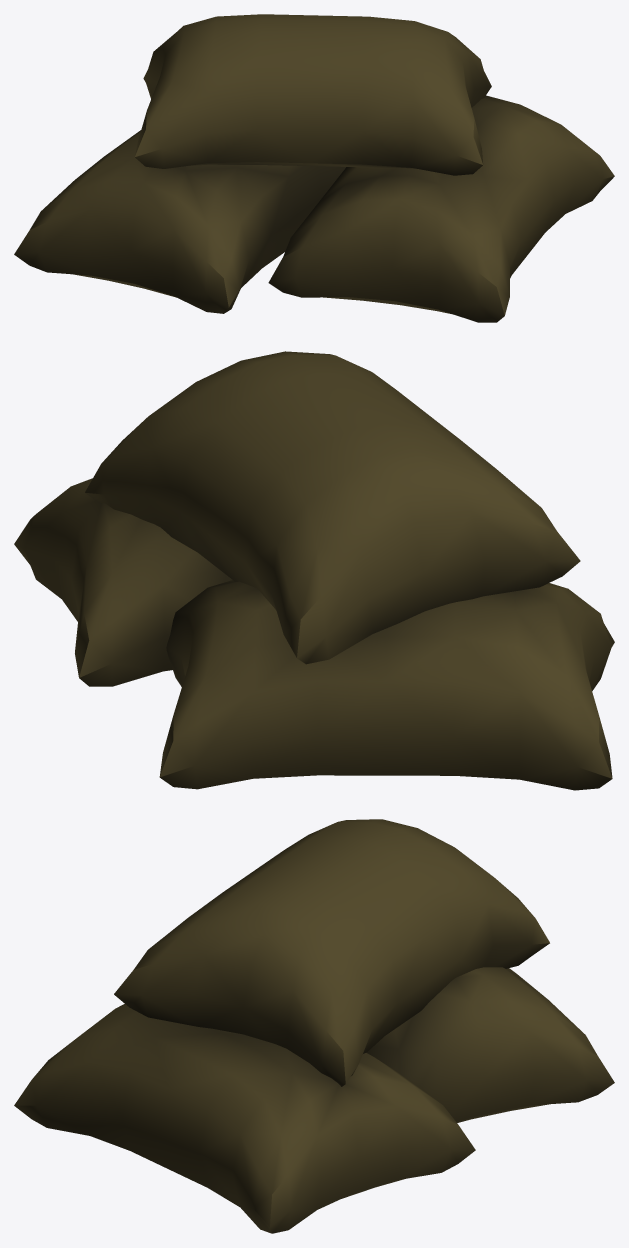
Rendered from pq_tas_sacs.glb.
3 views of the same model, one above another, from view 1: azimuth 30°, elevation 25°; view 2: azimuth 150°, elevation 25°; view 3: azimuth 270°, elevation 25° (orthographic). The views are drawn at different scales.
Visible parts, largest first — view 1: Bags; view 2: Bags; view 3: Bags.
Part boxes in pixels (box(x1,y1,x2,y2)): Bags: box(14, 14, 614, 322); Bags: box(14, 351, 614, 790); Bags: box(14, 819, 614, 1233).
Bounding box in the file's own units: 1.39 × 0.55 × 1.23.
